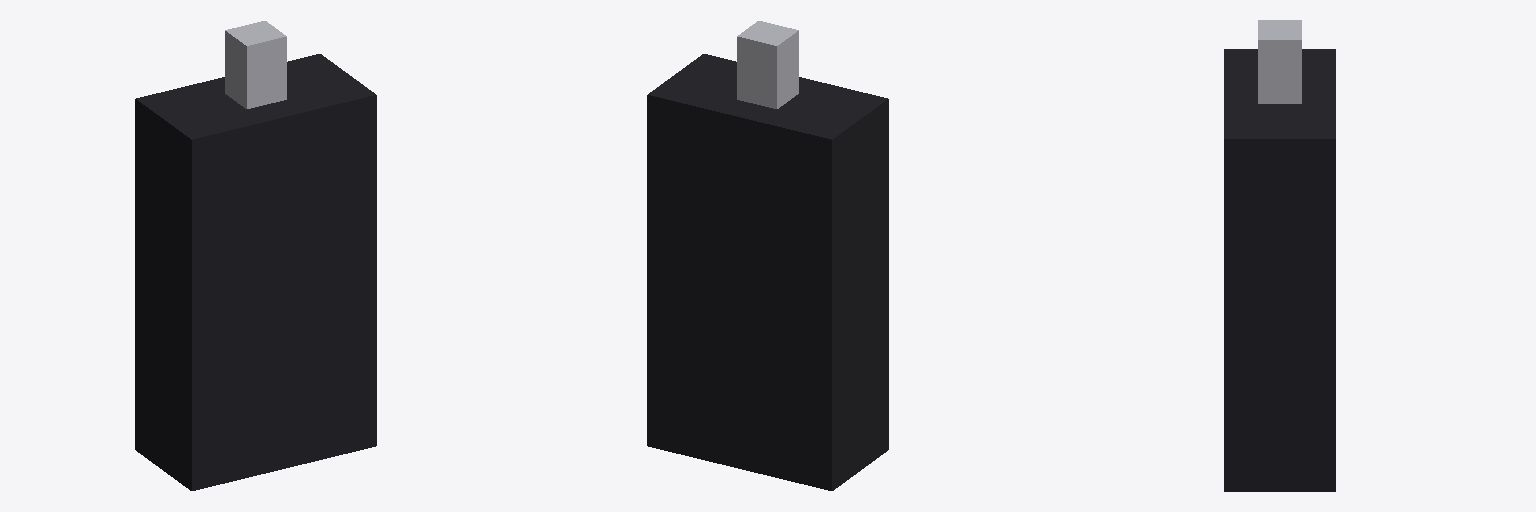
The robot description file, URDF, robot "pgea_50_26":
<?xml version="1.0"?>
<!-- DH Robotics PGEA-50-26. Units: metres / radians.
     Mount frame `pgea_base_link` coincides with the CS3AS flange.
     TCP is 118 mm along +Z (tool offset x=0, y=0, z=118 mm).
     Finger joints are prismatic; mimic closes both jaws.
     Opening 0.0 m = fully closed (1.2 mm gap), 0.013 m per jaw = fully open. -->
<robot name="pgea_50_26">
  <link name="pgea_base_link">
    <visual>
      <origin xyz="0 0 0" rpy="0 0 0"/>
      <geometry>
        <mesh filename="../meshes/body.stl" scale="1 1 1"/>
      </geometry>
      <material name="dh_black">
        <color rgba="0.18 0.18 0.20 1"/>
      </material>
    </visual>
    <collision>
      <origin xyz="0 0 0.050" rpy="0 0 0"/>
      <geometry>
        <box size="0.055 0.029 0.100"/>
      </geometry>
    </collision>
    <inertial>
      <origin xyz="0 0 0.050" rpy="0 0 0"/>
      <mass value="0.40"/>
      <inertia ixx="0.000492" ixy="0" ixz="0" iyy="0.000565" iyz="0" izz="0.000129"/>
    </inertial>
  </link>

  <link name="pgea_finger_left">
    <visual>
      <origin xyz="0 0 0" rpy="0 0 0"/>
      <geometry>
        <mesh filename="../meshes/finger.stl" scale="1 1 1"/>
      </geometry>
      <material name="dh_silver">
        <color rgba="0.75 0.75 0.78 1"/>
      </material>
    </visual>
    <collision>
      <origin xyz="0 0 0.009" rpy="0 0 0"/>
      <geometry>
        <box size="0.012 0.010 0.018"/>
      </geometry>
    </collision>
    <inertial>
      <origin xyz="0 0 0.009" rpy="0 0 0"/>
      <mass value="0.05"/>
      <inertia ixx="1.6e-6" ixy="0" ixz="0" iyy="2.0e-6" iyz="0" izz="8.7e-7"/>
    </inertial>
  </link>

  <link name="pgea_finger_right">
    <visual>
      <origin xyz="0 0 0" rpy="0 0 0"/>
      <geometry>
        <mesh filename="../meshes/finger.stl" scale="1 1 1"/>
      </geometry>
      <material name="dh_silver">
        <color rgba="0.75 0.75 0.78 1"/>
      </material>
    </visual>
    <collision>
      <origin xyz="0 0 0.009" rpy="0 0 0"/>
      <geometry>
        <box size="0.012 0.010 0.018"/>
      </geometry>
    </collision>
    <inertial>
      <origin xyz="0 0 0.009" rpy="0 0 0"/>
      <mass value="0.05"/>
      <inertia ixx="1.6e-6" ixy="0" ixz="0" iyy="2.0e-6" iyz="0" izz="8.7e-7"/>
    </inertial>
  </link>

  <link name="pgea_tcp"/>

  <!-- Closed: each jaw at y = ±0.0006 m (1.2 mm gap). Open: ±0.0136 m. -->
  <joint name="pgea_finger_left_joint" type="prismatic">
    <parent link="pgea_base_link"/>
    <child link="pgea_finger_left"/>
    <origin xyz="0 0.0006 0.100" rpy="0 0 0"/>
    <axis xyz="0 1 0"/>
    <limit lower="0.0" upper="0.013" effort="50" velocity="0.05"/>
  </joint>

  <joint name="pgea_finger_right_joint" type="prismatic">
    <parent link="pgea_base_link"/>
    <child link="pgea_finger_right"/>
    <origin xyz="0 -0.0006 0.100" rpy="0 0 3.141592653589793"/>
    <axis xyz="0 1 0"/>
    <limit lower="0.0" upper="0.013" effort="50" velocity="0.05"/>
    <mimic joint="pgea_finger_left_joint" multiplier="1" offset="0"/>
  </joint>

  <joint name="pgea_tcp_joint" type="fixed">
    <parent link="pgea_base_link"/>
    <child link="pgea_tcp"/>
    <origin xyz="0 0 0.118" rpy="0 0 0"/>
  </joint>
</robot>

--- Facts derived from the render (not from the file) ---
The picture shows the robot from 3 angles, left to right: view 1: azimuth 30°, elevation 25°; view 2: azimuth 150°, elevation 25°; view 3: azimuth 270°, elevation 25°; orthographic projection.
Robot: pgea_50_26 — 4 links, 3 joints (2 prismatic, 1 fixed); root link pgea_base_link; default pose: all joints at 0.
Visible links, largest first — view 1: pgea_base_link, pgea_finger_right, pgea_finger_left; view 2: pgea_base_link, pgea_finger_left, pgea_finger_right; view 3: pgea_base_link, pgea_finger_left, pgea_finger_right.
Link boxes in pixels (x1,y1,x2,y2): pgea_base_link: (135, 54, 376, 490); pgea_finger_right: (230, 35, 286, 108); pgea_finger_left: (225, 21, 283, 106); pgea_base_link: (647, 54, 888, 490); pgea_finger_left: (737, 31, 796, 108); pgea_finger_right: (740, 21, 798, 94); pgea_base_link: (1224, 49, 1335, 491); pgea_finger_left: (1263, 20, 1301, 103); pgea_finger_right: (1258, 20, 1296, 103).
Size in the robot's own frame: 0.055 by 0.029 by 0.118 metres.
Meshes: 2 distinct files referenced, 3 mesh visuals loaded (2 ASCII STL).
